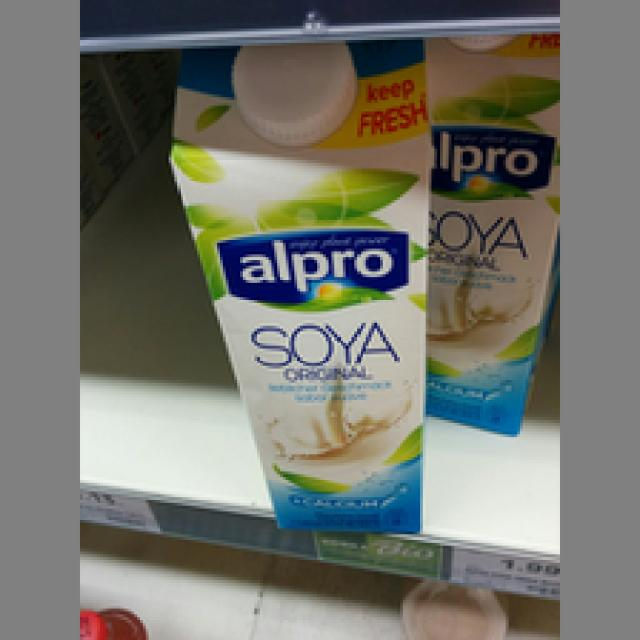groceries: (163, 40, 434, 546), (420, 34, 554, 437)
